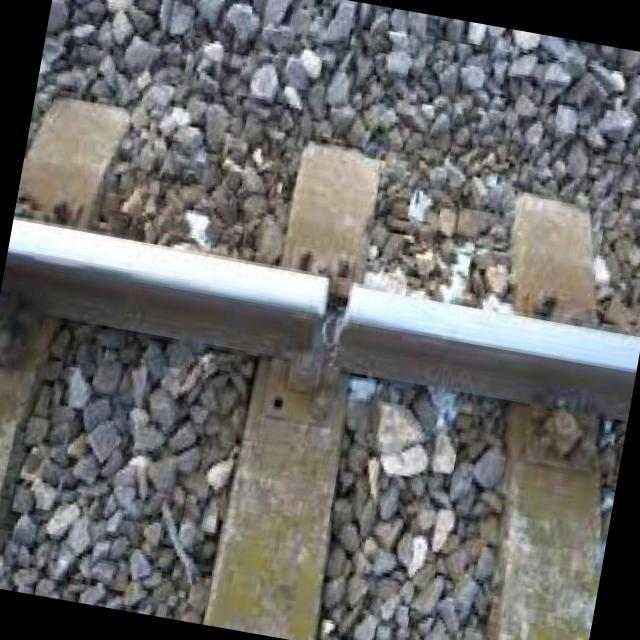defective: (102, 186, 500, 450)
